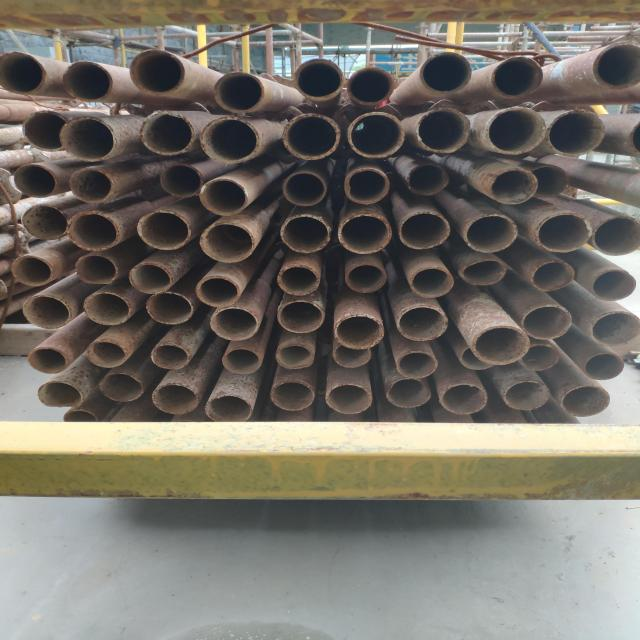pipe: (199, 116, 259, 164), (485, 106, 545, 154), (282, 113, 340, 160), (546, 109, 604, 156), (348, 111, 404, 159), (59, 116, 116, 162), (129, 49, 184, 94), (140, 111, 194, 156), (534, 212, 591, 253), (416, 109, 470, 152), (593, 40, 640, 89), (199, 222, 255, 263), (338, 213, 392, 254), (419, 52, 472, 93), (472, 326, 529, 364), (490, 57, 542, 98), (137, 210, 190, 250), (213, 72, 264, 113), (293, 58, 344, 99), (463, 214, 518, 252), (66, 212, 119, 251), (63, 61, 113, 102), (280, 213, 331, 253), (0, 51, 47, 94), (22, 110, 70, 152), (398, 212, 450, 250), (592, 215, 639, 256), (396, 305, 448, 341), (521, 304, 572, 340), (347, 66, 394, 105), (200, 178, 248, 216), (489, 168, 538, 205), (590, 310, 640, 346), (334, 314, 384, 349), (20, 204, 68, 240), (22, 294, 71, 328), (145, 291, 194, 325), (83, 292, 131, 326), (210, 307, 258, 341), (560, 385, 611, 417), (282, 170, 326, 207), (344, 168, 389, 204), (68, 168, 114, 203), (277, 300, 324, 334), (159, 163, 203, 198), (151, 382, 199, 414), (13, 164, 58, 198), (194, 275, 240, 308), (325, 383, 373, 414), (440, 383, 488, 414), (501, 380, 550, 410), (591, 269, 636, 301), (384, 378, 432, 408), (270, 380, 315, 411), (407, 162, 449, 195), (129, 262, 172, 294), (531, 260, 575, 291), (409, 267, 454, 297), (99, 372, 144, 402), (204, 394, 252, 422), (74, 254, 118, 284), (276, 265, 320, 295), (37, 380, 84, 408), (11, 255, 53, 286), (458, 258, 506, 285), (344, 262, 387, 292), (532, 164, 568, 198), (397, 350, 437, 379), (583, 352, 624, 380), (28, 346, 68, 374), (86, 340, 127, 367), (222, 347, 262, 374), (518, 344, 558, 371), (274, 343, 314, 369), (151, 344, 190, 369), (332, 344, 372, 368), (459, 346, 494, 370), (63, 410, 99, 422)
